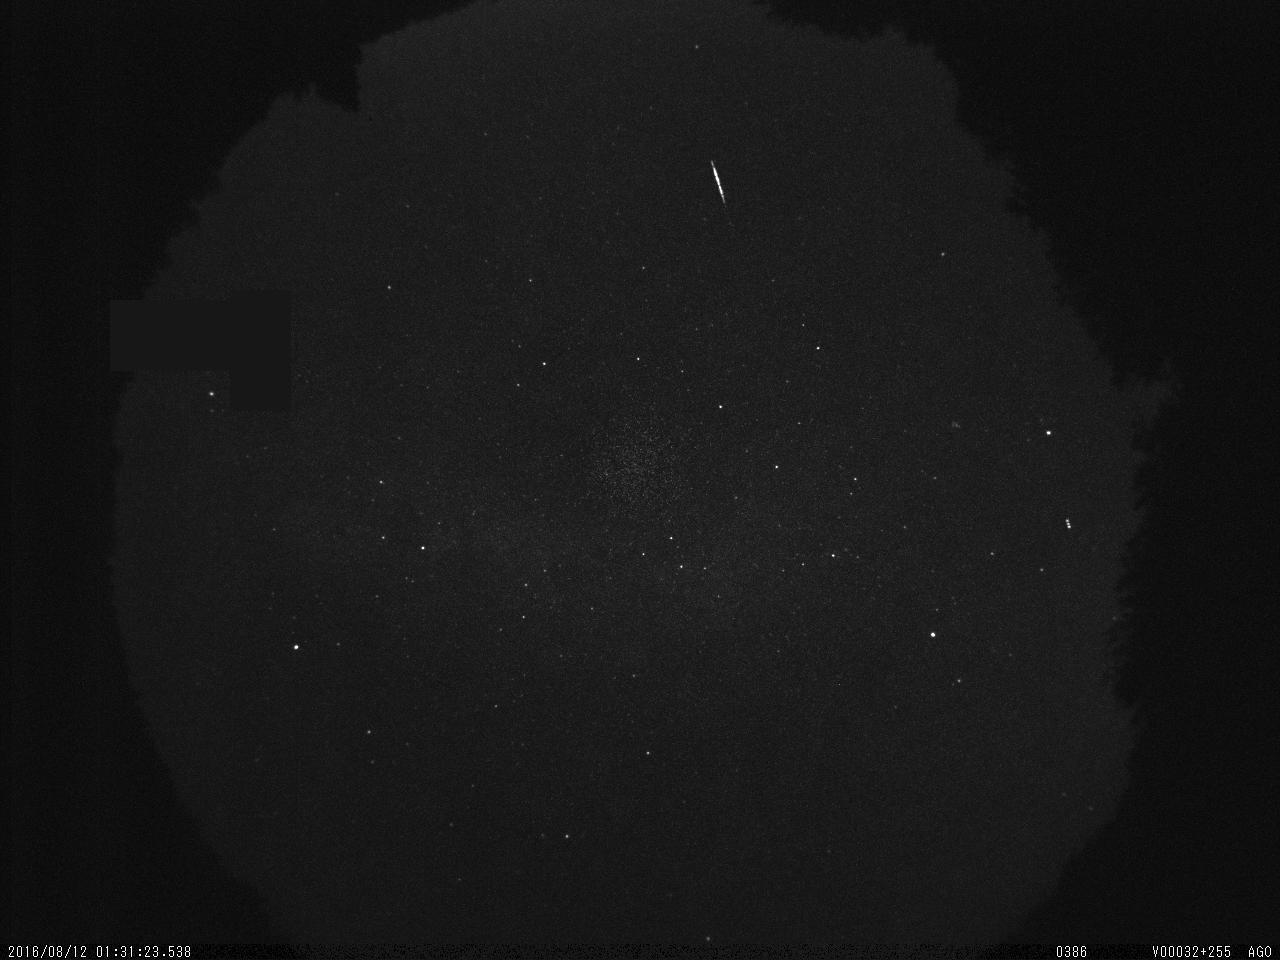meteor: (700, 155, 739, 210)
